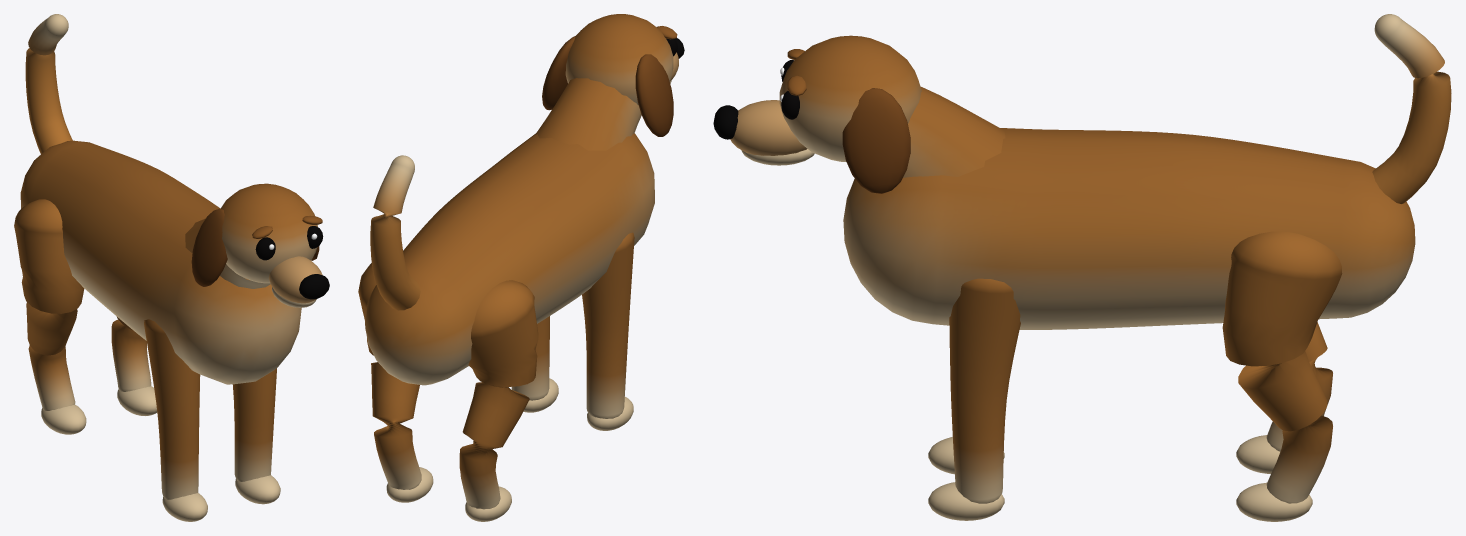
Rendered from dog.glb.
3 views of the same model, side by side, from view 1: azimuth 30°, elevation 25°; view 2: azimuth 150°, elevation 25°; view 3: azimuth 270°, elevation 25° (orthographic). The views are drawn at different scales.
Parts seen in each view (by area): view 1: dog; view 2: dog; view 3: dog.
Part boxes in pixels (<box>): dog: <box>14,14,329,521</box>; dog: <box>358,14,684,521</box>; dog: <box>713,14,1451,521</box>.
Bounding box in the file's own units: 0.4586 × 1.03 × 1.44.
